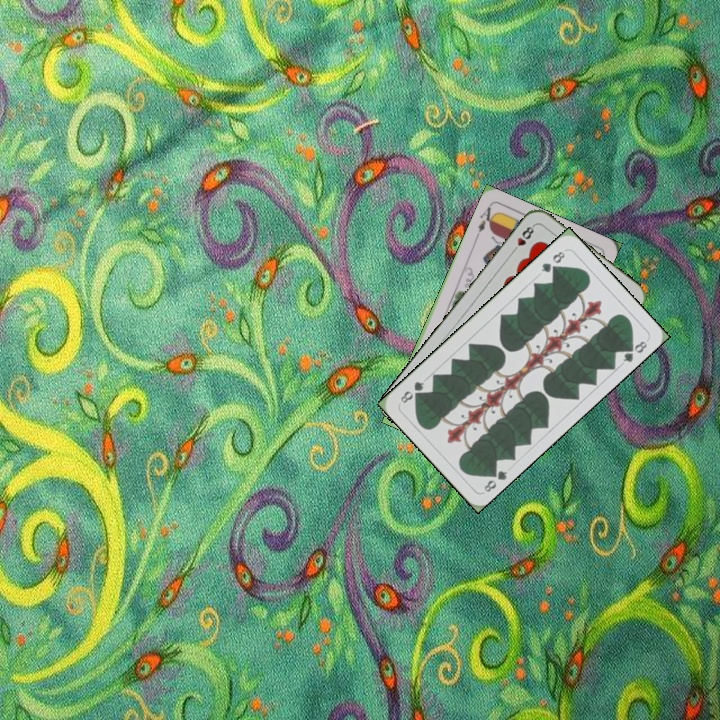EA: (472, 201, 498, 241)
G8: (480, 464, 510, 495), (537, 247, 568, 275)
H8: (508, 221, 537, 256)
